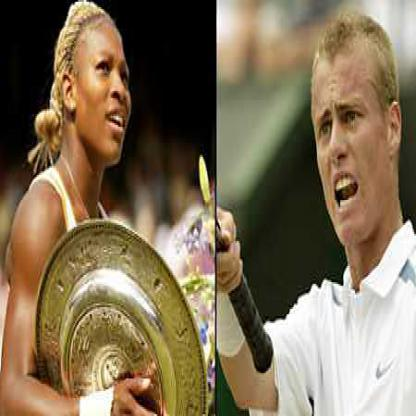face: (313, 16, 391, 254), (77, 9, 135, 173)
